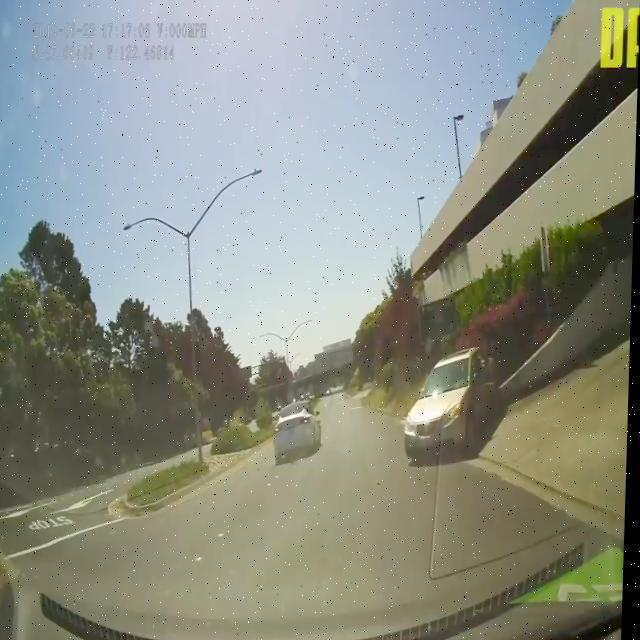normal: (393, 347, 517, 490), (266, 371, 336, 477)
